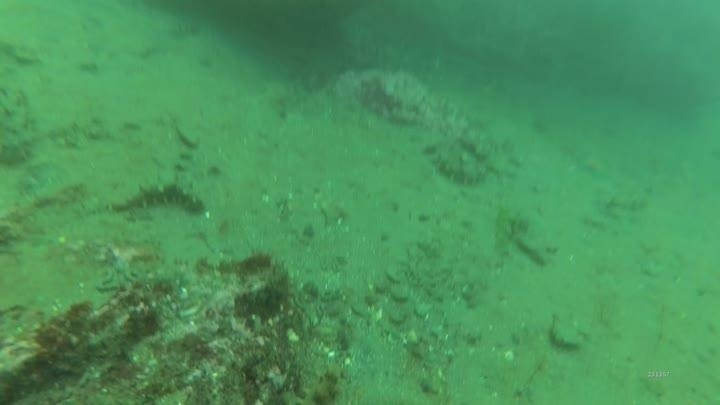holothurian: (111, 174, 208, 218), (424, 142, 490, 188)
